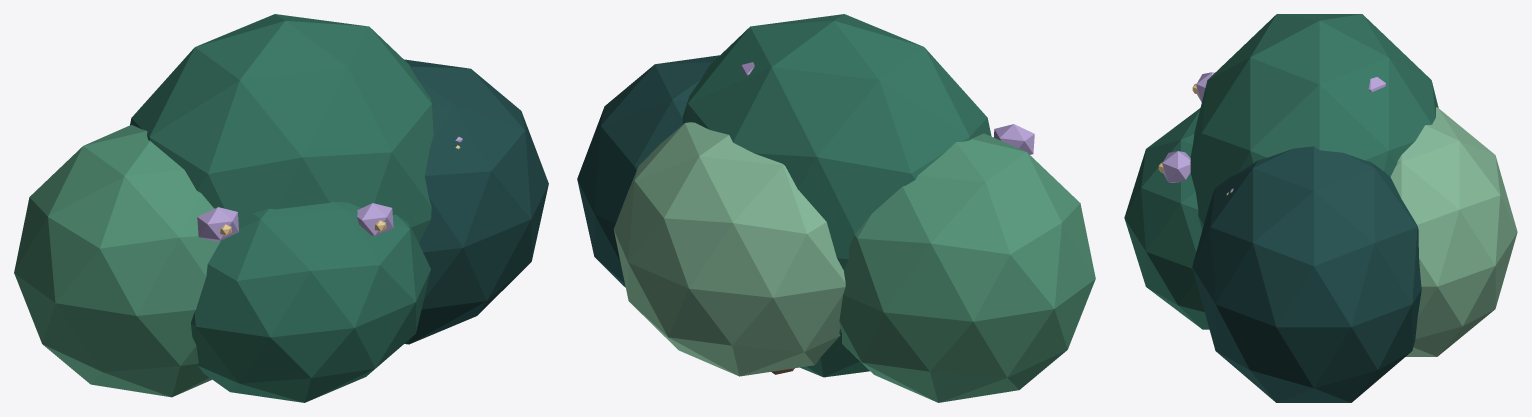
The model's file is EG_Arbusto_Florido.fbx.
3 renders of one model, left to right at view 1: azimuth 30°, elevation 25°; view 2: azimuth 150°, elevation 25°; view 3: azimuth 270°, elevation 25°, orthographic. The views are drawn at different scales.
Parts seen in each view (by area): view 1: EG_Arbusto_Florido; view 2: EG_Arbusto_Florido; view 3: EG_Arbusto_Florido.
Boxes of the visible parts, bbox=[...] form: EG_Arbusto_Florido: bbox=[14, 14, 548, 402]; EG_Arbusto_Florido: bbox=[577, 14, 1095, 402]; EG_Arbusto_Florido: bbox=[1124, 14, 1517, 402].
Bounding box in the file's own units: 1.89 × 1.3 × 1.39.
1 material, 1 textured.
